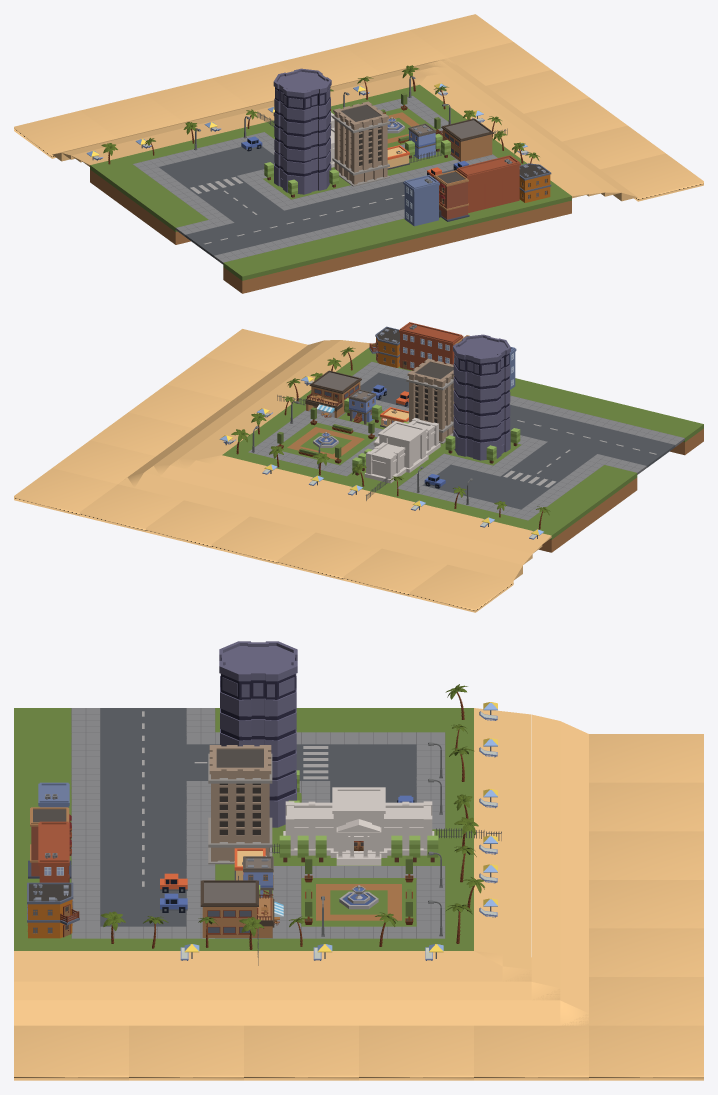
The model's file is simple-city.fbx.
3 views of the same model, one above another, from view 1: azimuth 30°, elevation 25°; view 2: azimuth 150°, elevation 25°; view 3: azimuth 270°, elevation 25° (orthographic). The views are drawn at different scales.
Visible parts, largest first — view 1: Generic (×14), Cube (×20), road (×8), beach (×8), skyscraper-02, building-05, building-04, fountain, building-02; view 2: Generic (×14), beach (×9), Cube (×15), road (×8), skyscraper-02, building-courthouse, fountain, building-05, building-02; view 3: Generic (×14), beach (×12), road (×7), Cube (×13), skyscraper-02, building-courthouse, fountain, building-05, building-02, building-04.
Part boxes in pixels (left/top/right/bottom): Generic (×14): left=14, top=14, right=703, bottom=201; Cube (×20): left=99, top=125, right=571, bottom=293; road (×8): left=175, top=146, right=426, bottom=264; beach (×8): left=52, top=72, right=637, bottom=201; skyscraper-02: left=273, top=68, right=331, bottom=194; building-05: left=437, top=118, right=493, bottom=161; building-04: left=433, top=170, right=469, bottom=221; fountain: left=380, top=92, right=440, bottom=147; building-02: left=519, top=163, right=551, bottom=202; Generic (×14): left=14, top=329, right=513, bottom=612; beach (×9): left=157, top=340, right=551, bottom=580; Cube (×15): left=323, top=322, right=703, bottom=545; road (×8): left=352, top=362, right=684, bottom=497; skyscraper-02: left=453, top=334, right=510, bottom=460; building-courthouse: left=364, top=418, right=440, bottom=483; fountain: left=277, top=407, right=377, bottom=465; building-05: left=305, top=370, right=361, bottom=417; building-02: left=369, top=326, right=399, bottom=367; Generic (×14): left=14, top=734, right=703, bottom=1080; beach (×12): left=14, top=708, right=588, bottom=1025; road (×7): left=71, top=708, right=416, bottom=938; Cube (×13): left=14, top=708, right=473, bottom=882; skyscraper-02: left=219, top=641, right=297, bottom=827; building-courthouse: left=283, top=787, right=434, bottom=865; fountain: left=301, top=856, right=416, bottom=926; building-05: left=200, top=880, right=283, bottom=937; building-02: left=27, top=882, right=79, bottom=938; building-04: left=28, top=807, right=71, bottom=878.
Size of the model in its own units: 11200 by 2868 by 9600.
